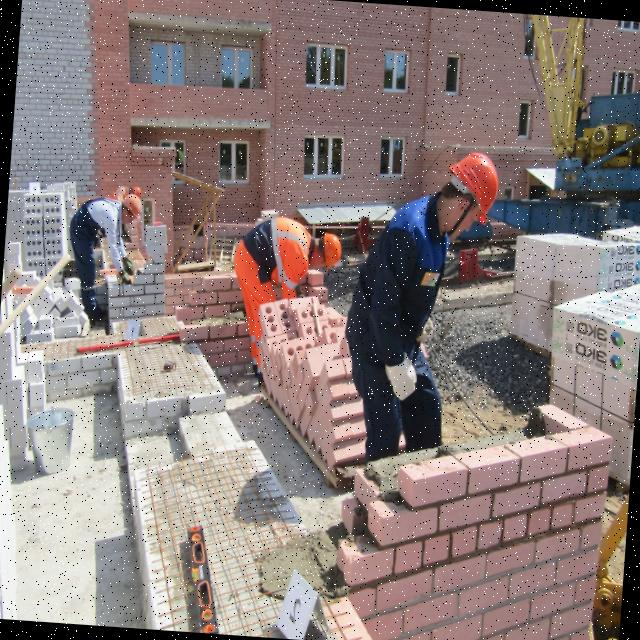Helmet: (446, 151, 500, 228), (320, 231, 343, 276), (121, 195, 143, 220), (131, 185, 144, 198)
Jacket: (243, 219, 317, 291)
NoJacket: (370, 203, 454, 366), (72, 199, 123, 247)
